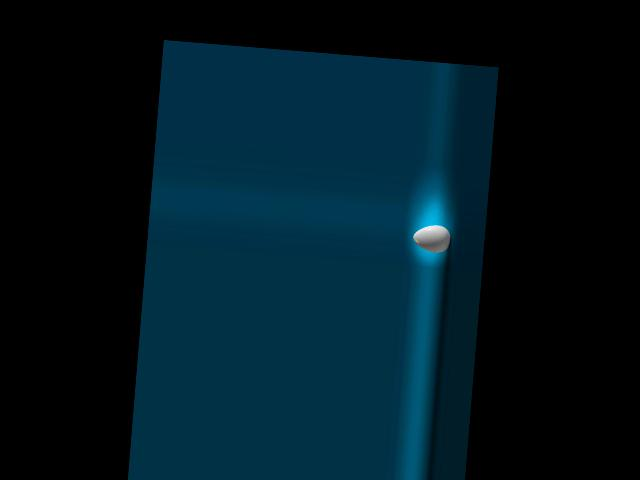egg: (412, 223, 452, 254)
